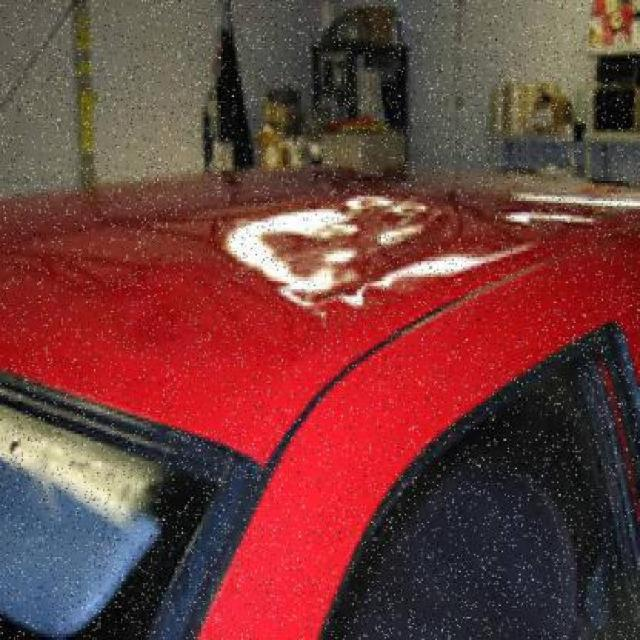roof-dent: (0, 168, 529, 516)
